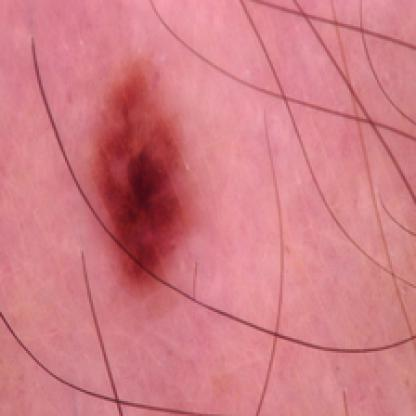benign: (78, 52, 195, 301)
